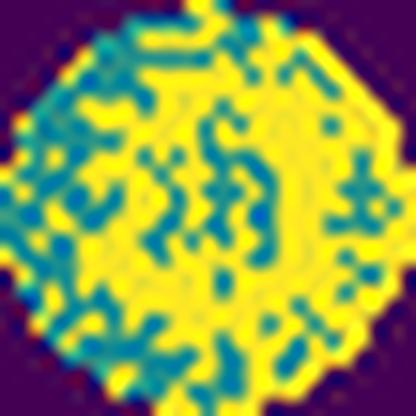Random: (56, 0, 415, 416)
